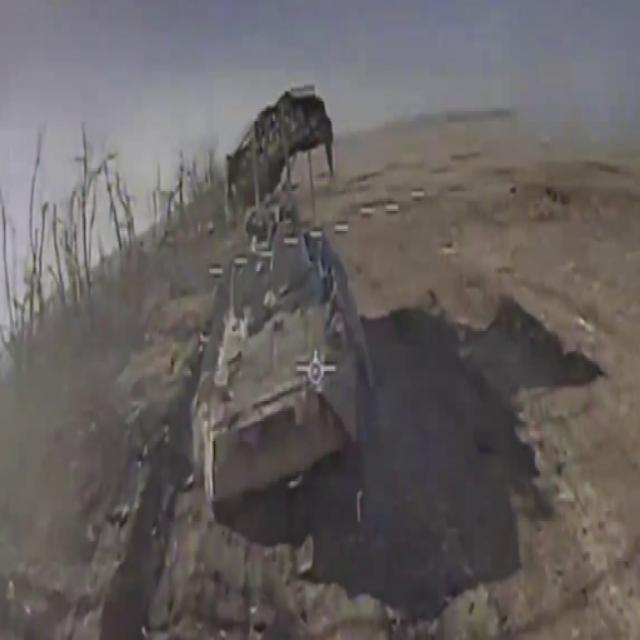APC-IFV: (168, 94, 384, 522)
